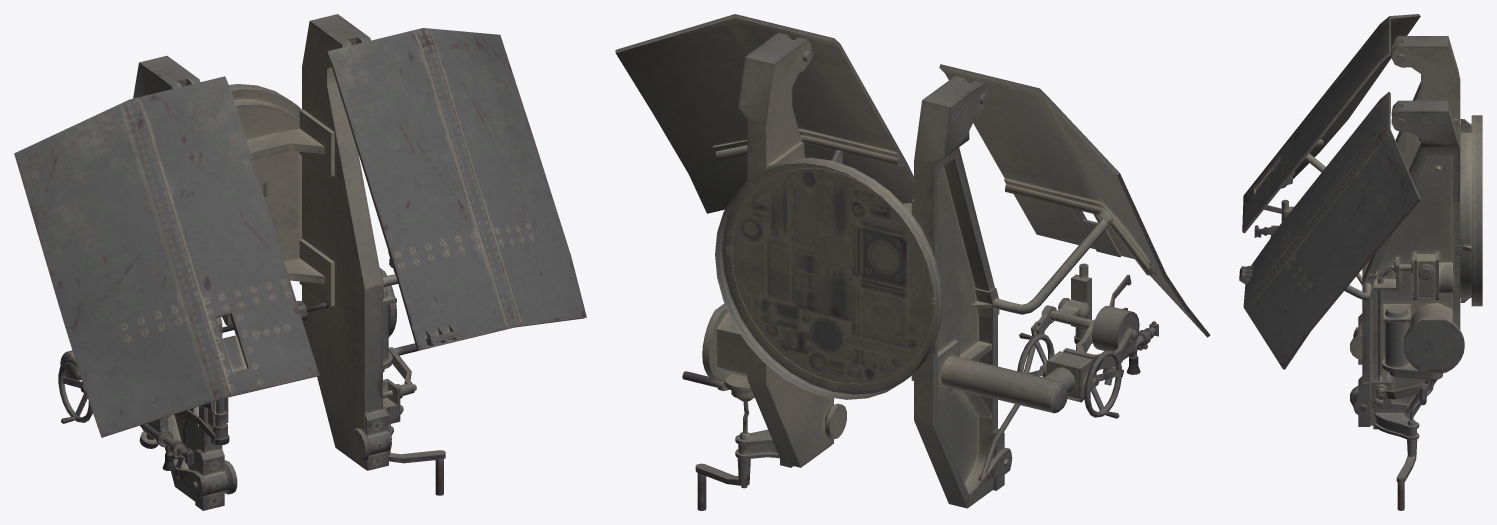
Rendered from Turret_01.glb.
3 views of the same model, side by side, from view 1: azimuth 30°, elevation 25°; view 2: azimuth 150°, elevation 25°; view 3: azimuth 270°, elevation 25° (orthographic). The views are drawn at different scales.
Visible parts, largest first — view 1: set_0_group_0; view 2: set_0_group_0; view 3: set_0_group_0.
Boxes of the visible parts, x1,y1,x2,y2 form: set_0_group_0: (14,14,586,510); set_0_group_0: (615,14,1210,510); set_0_group_0: (1239,14,1482,510).
Size of the model in its own units: 2.57 by 2.41 by 1.43.
Materials: 1 (1 with a texture image).
